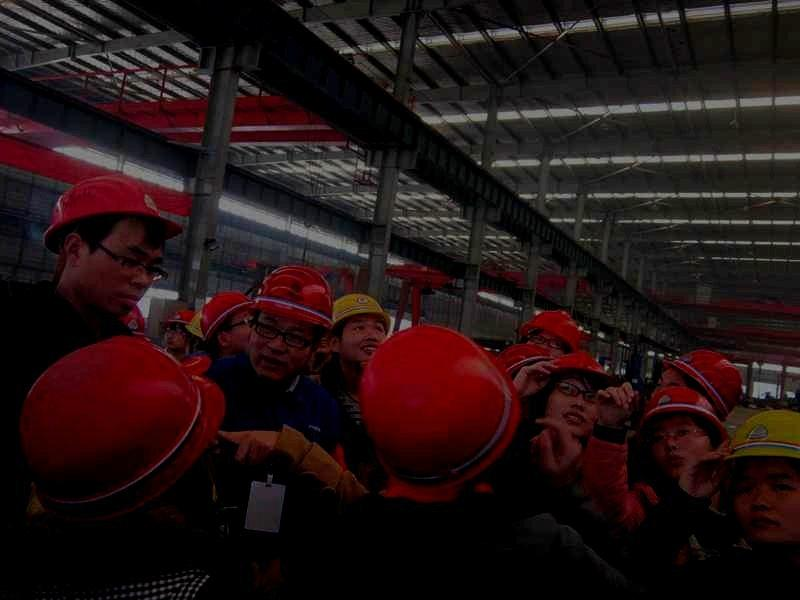helmet: (18, 334, 227, 528), (356, 323, 523, 488), (42, 172, 185, 319), (242, 263, 335, 382), (722, 408, 800, 543), (638, 385, 729, 478), (654, 349, 743, 421), (545, 348, 610, 436), (331, 293, 392, 362), (200, 289, 256, 354), (519, 309, 582, 357), (496, 344, 559, 375), (160, 309, 197, 350), (185, 310, 203, 354)
